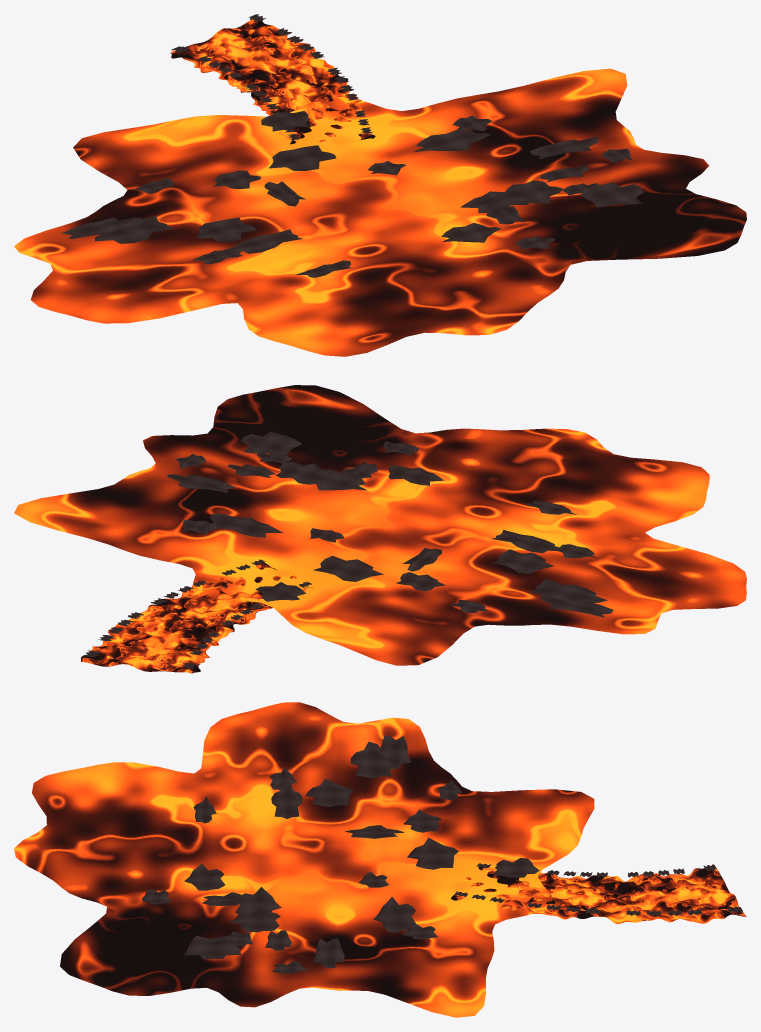
The model's file is b4-lava-pool-v3.glb.
3 renders of one model, top to bottom at view 1: azimuth 30°, elevation 25°; view 2: azimuth 150°, elevation 25°; view 3: azimuth 270°, elevation 25°, orthographic. The views are drawn at different scales.
Parts seen in each view (by area): view 1: C_IRREGULAR_MOLTEN_LAKE, C_POOL_OUTLET, C_COOLING_RAFT_CRUST_4, C_COOLING_RAFT_CRUST_17, C_COOLING_RAFT_CRUST_14, C_COOLING_RAFT_CRUST_22, C_COOLING_RAFT_CRUST_23, C_COOLING_RAFT_CRUST_0, C_COOLING_RAFT_CRUST_11, C_COOLING_RAFT_CRUST_16, C_COOLING_RAFT_CRUST_2, C_COOLING_RAFT_CRUST_3 (+3 smaller); view 2: C_IRREGULAR_MOLTEN_LAKE, C_POOL_OUTLET, C_COOLING_RAFT_CRUST_4, C_COOLING_RAFT_CRUST_14, C_COOLING_RAFT_CRUST_17, C_COOLING_RAFT_CRUST_22, C_COOLING_RAFT_CRUST_23, C_COOLING_RAFT_CRUST_0, C_COOLING_RAFT_CRUST_11, C_COOLING_RAFT_CRUST_2, C_COOLING_RAFT_CRUST_16, C_COOLING_RAFT_CRUST_3 (+4 smaller); view 3: C_IRREGULAR_MOLTEN_LAKE, C_POOL_OUTLET, C_COOLING_RAFT_CRUST_4, C_COOLING_RAFT_CRUST_17, C_COOLING_RAFT_CRUST_14, C_COOLING_RAFT_CRUST_22, C_COOLING_RAFT_CRUST_23, C_COOLING_RAFT_CRUST_11, C_COOLING_RAFT_CRUST_0, C_COOLING_RAFT_CRUST_16, C_COOLING_RAFT_CRUST_2, C_COOLING_RAFT_CRUST_3 (+3 smaller).
Part boxes in pixels (x1,y1,x2,y2): C_IRREGULAR_MOLTEN_LAKE: (14,68,746,356); C_POOL_OUTLET: (170,17,375,144); C_COOLING_RAFT_CRUST_4: (269,145,336,170); C_COOLING_RAFT_CRUST_17: (95,216,173,243); C_COOLING_RAFT_CRUST_14: (580,182,643,207); C_COOLING_RAFT_CRUST_22: (413,129,490,152); C_COOLING_RAFT_CRUST_23: (196,217,256,241); C_COOLING_RAFT_CRUST_0: (460,188,528,212); C_COOLING_RAFT_CRUST_11: (224,229,302,253); C_COOLING_RAFT_CRUST_16: (504,180,562,203); C_COOLING_RAFT_CRUST_2: (61,217,142,239); C_COOLING_RAFT_CRUST_3: (441,223,501,242); C_IRREGULAR_MOLTEN_LAKE: (14,385,746,665); C_POOL_OUTLET: (81,562,312,673); C_COOLING_RAFT_CRUST_4: (313,555,383,581); C_COOLING_RAFT_CRUST_14: (241,431,301,455); C_COOLING_RAFT_CRUST_17: (529,579,607,602); C_COOLING_RAFT_CRUST_22: (210,513,283,537); C_COOLING_RAFT_CRUST_23: (491,549,554,573); C_COOLING_RAFT_CRUST_0: (300,469,366,490); C_COOLING_RAFT_CRUST_11: (491,530,565,553); C_COOLING_RAFT_CRUST_2: (540,594,613,617); C_COOLING_RAFT_CRUST_16: (275,462,334,484); C_COOLING_RAFT_CRUST_3: (388,465,443,485); C_IRREGULAR_MOLTEN_LAKE: (14,702,594,1017); C_POOL_OUTLET: (451,867,746,924); C_COOLING_RAFT_CRUST_4: (407,837,458,869); C_COOLING_RAFT_CRUST_17: (350,741,390,778); C_COOLING_RAFT_CRUST_14: (184,935,240,958); C_COOLING_RAFT_CRUST_22: (373,896,416,932); C_COOLING_RAFT_CRUST_23: (305,778,353,806); C_COOLING_RAFT_CRUST_11: (271,783,302,818); C_COOLING_RAFT_CRUST_0: (235,887,281,919); C_COOLING_RAFT_CRUST_16: (230,905,280,932); C_COOLING_RAFT_CRUST_2: (380,735,410,768); C_COOLING_RAFT_CRUST_3: (184,864,225,890).
Bounding box in the file's own units: 5.03 × 0.081 × 4.92.
Materials: 2 (2 with a texture image).
